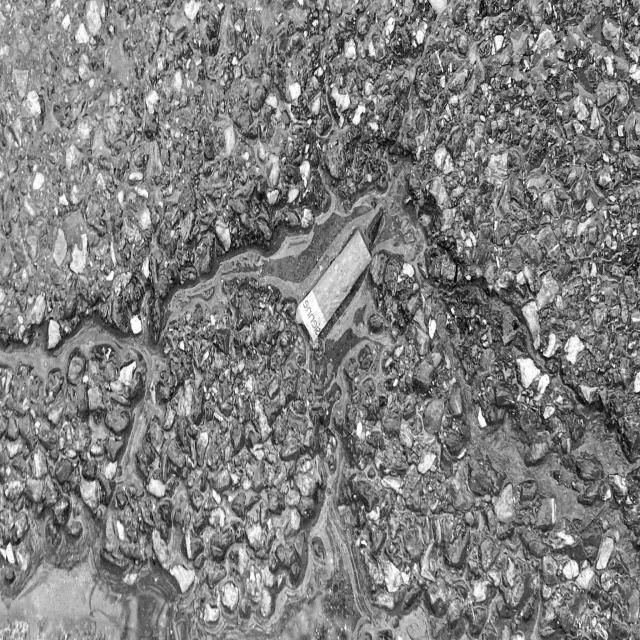other waste: (294, 228, 372, 344)
